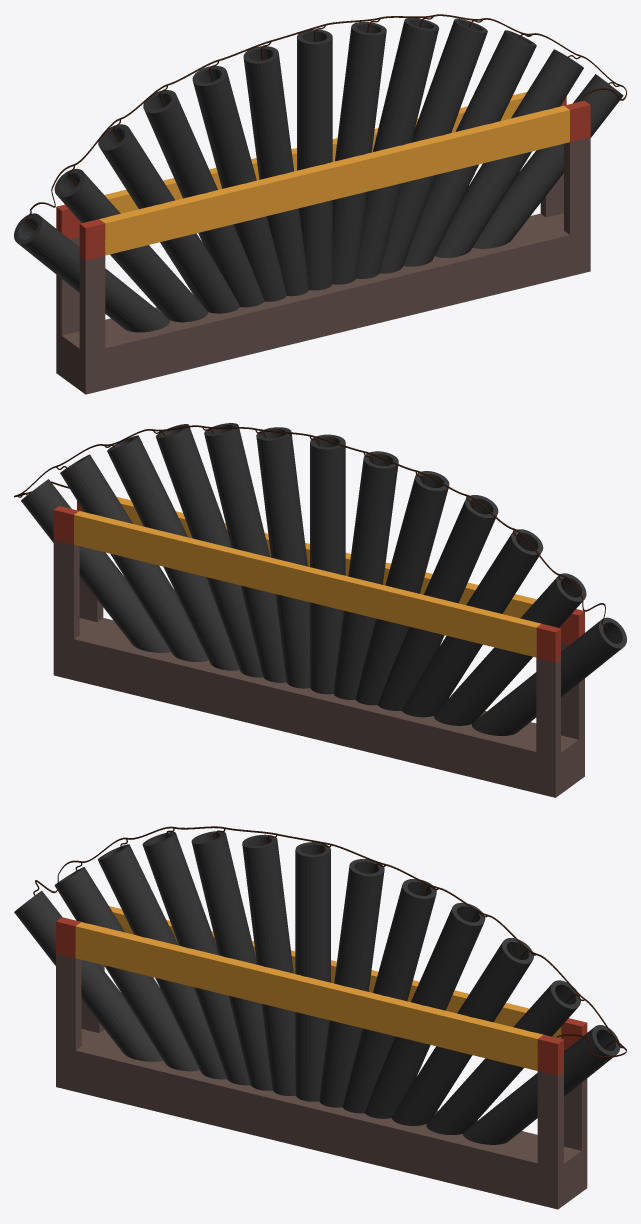
Rendered from Classic13Rack.fbx.
3 views of the same model, one above another, from view 1: azimuth 30°, elevation 25°; view 2: azimuth 150°, elevation 25°; view 3: azimuth 330°, elevation 25° (orthographic).
Visible parts, largest first — view 1: Cube, Cylinder.001, Cylinder.012, Cylinder.003, Cylinder.002, Cylinder.005, Cylinder.006, Cylinder.004, Cylinder, Cylinder.007, Cylinder.008, Cylinder.010 (+3 smaller); view 2: Cube, Cylinder.001, Cylinder.012, Cylinder.003, Cylinder.002, Cylinder.005, Cylinder.006, Cylinder.004, Cylinder, Cylinder.008, Cylinder.007, Cylinder.010 (+3 smaller); view 3: Cube, Cylinder.012, Cylinder.002, Cylinder.004, Cylinder.001, Cylinder, Cylinder.003, Cylinder.005, Cylinder.007, Cylinder.006, Cylinder.010, Cylinder.008 (+3 smaller).
Part boxes in pixels (x1,y1,x2,y2): Cube: (56, 92, 590, 394); Cylinder.001: (332, 22, 386, 284); Cylinder.012: (297, 29, 332, 290); Cylinder.003: (356, 18, 439, 278); Cylinder.002: (243, 46, 308, 296); Cylinder.005: (379, 18, 487, 273); Cylinder.006: (403, 30, 536, 266); Cylinder.004: (192, 66, 286, 301); Cylinder: (143, 90, 264, 307); Cylinder.007: (98, 124, 240, 313); Cylinder.008: (435, 49, 583, 257); Cylinder.010: (54, 168, 208, 322); Cube: (53, 496, 584, 797); Cylinder.001: (256, 427, 310, 688); Cylinder.012: (310, 434, 345, 694); Cylinder.003: (204, 423, 286, 682); Cylinder.002: (333, 451, 398, 699); Cylinder.005: (155, 424, 262, 677); Cylinder.006: (107, 435, 239, 670); Cylinder.004: (355, 471, 449, 705); Cylinder: (378, 495, 498, 710); Cylinder.008: (60, 454, 208, 661); Cylinder.007: (401, 529, 543, 717); Cylinder.010: (434, 573, 586, 725); Cube: (56, 906, 587, 1209); Cylinder.012: (295, 842, 330, 1101); Cylinder.002: (242, 834, 295, 1095); Cylinder.004: (191, 831, 272, 1090); Cylinder.001: (319, 859, 384, 1107); Cylinder: (142, 832, 250, 1085); Cylinder.003: (342, 879, 436, 1113); Cylinder.005: (365, 902, 485, 1118); Cylinder.007: (98, 844, 226, 1079); Cylinder.006: (391, 938, 533, 1125); Cylinder.010: (54, 867, 199, 1071); Cylinder.008: (426, 980, 580, 1134).
Bounding box in the file's own units: 593 × 273 × 49.47.
